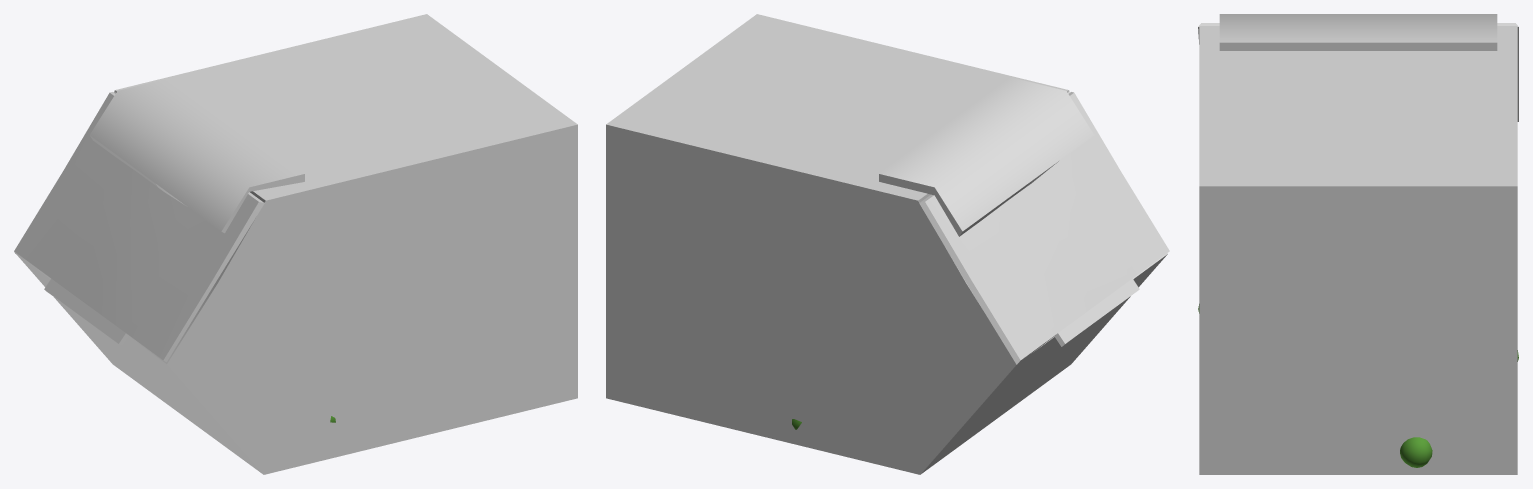
Rendered from Item_GumBallsVar_3.fbx.
3 renders of one model, left to right at view 1: azimuth 30°, elevation 25°; view 2: azimuth 150°, elevation 25°; view 3: azimuth 270°, elevation 25°, orthographic. The views are drawn at different scales.
Parts seen in each view (by area): view 1: Item_GumBallsVar_3; view 2: Item_GumBallsVar_3; view 3: Item_GumBallsVar_3.
Part boxes in pixels (x1,y1,x2,y2): Item_GumBallsVar_3: (14, 14, 577, 474); Item_GumBallsVar_3: (606, 14, 1169, 474); Item_GumBallsVar_3: (1198, 14, 1518, 474).
Size of the model in its own units: 73.46 by 46.76 by 44.9.
Materials: 2 (1 with a texture image).
